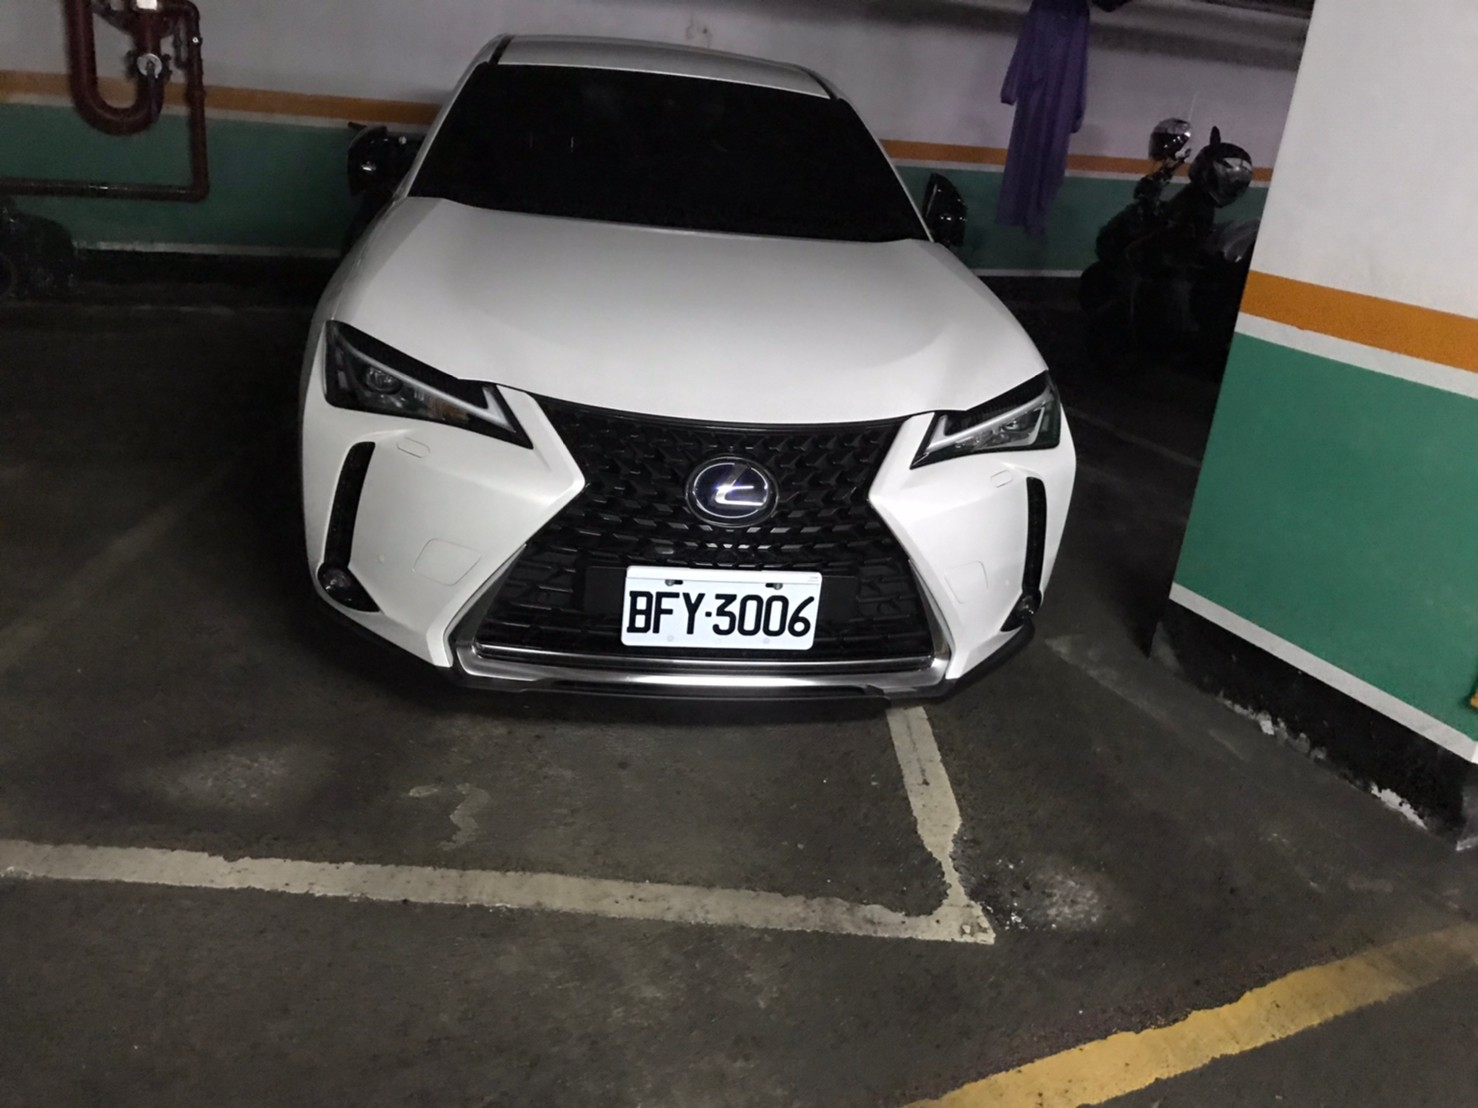LP: (621, 564, 822, 653)
